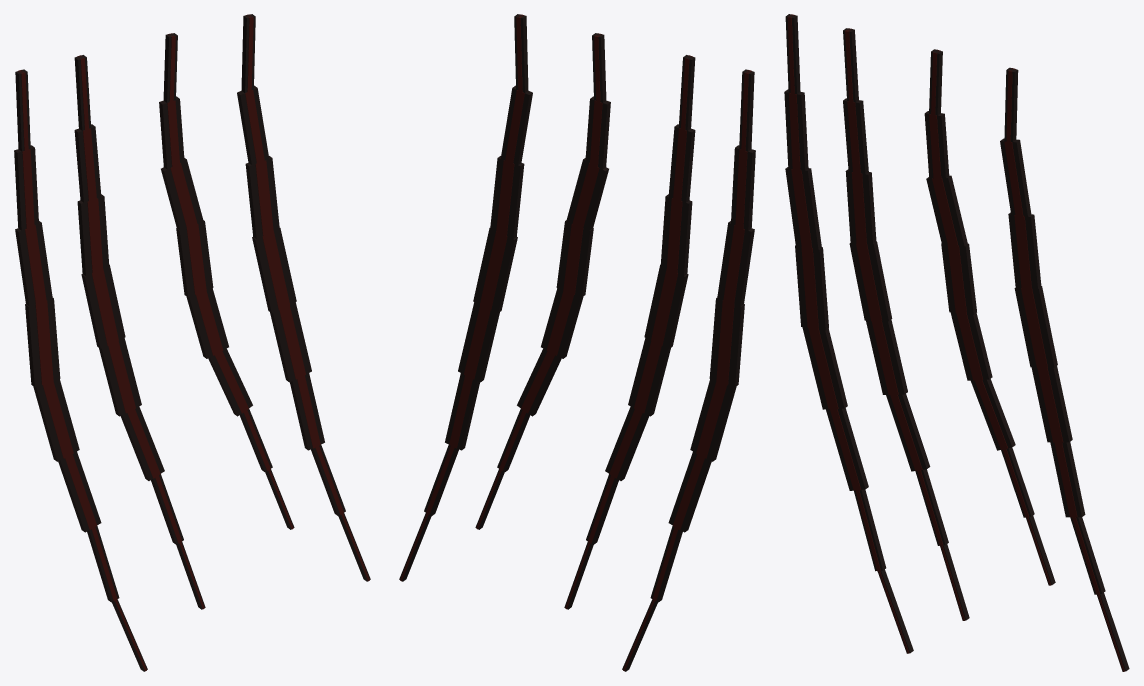
Rendered from SM_80s_ClawMarks.glb.
The picture shows the model from 3 angles, left to right: view 1: azimuth 30°, elevation 25°; view 2: azimuth 150°, elevation 25°; view 3: azimuth 330°, elevation 25°; orthographic projection. The views are drawn at different scales.
Parts seen in each view (by area): view 1: SM_80s_ClawMarks; view 2: SM_80s_ClawMarks; view 3: SM_80s_ClawMarks.
Part boxes in pixels (x1,y1,x2,y2): SM_80s_ClawMarks: (14,14,370,671); SM_80s_ClawMarks: (399,14,755,671); SM_80s_ClawMarks: (784,14,1129,671).
Bounding box in the file's own units: 0.5251 × 0.8928 × 0.0105.
